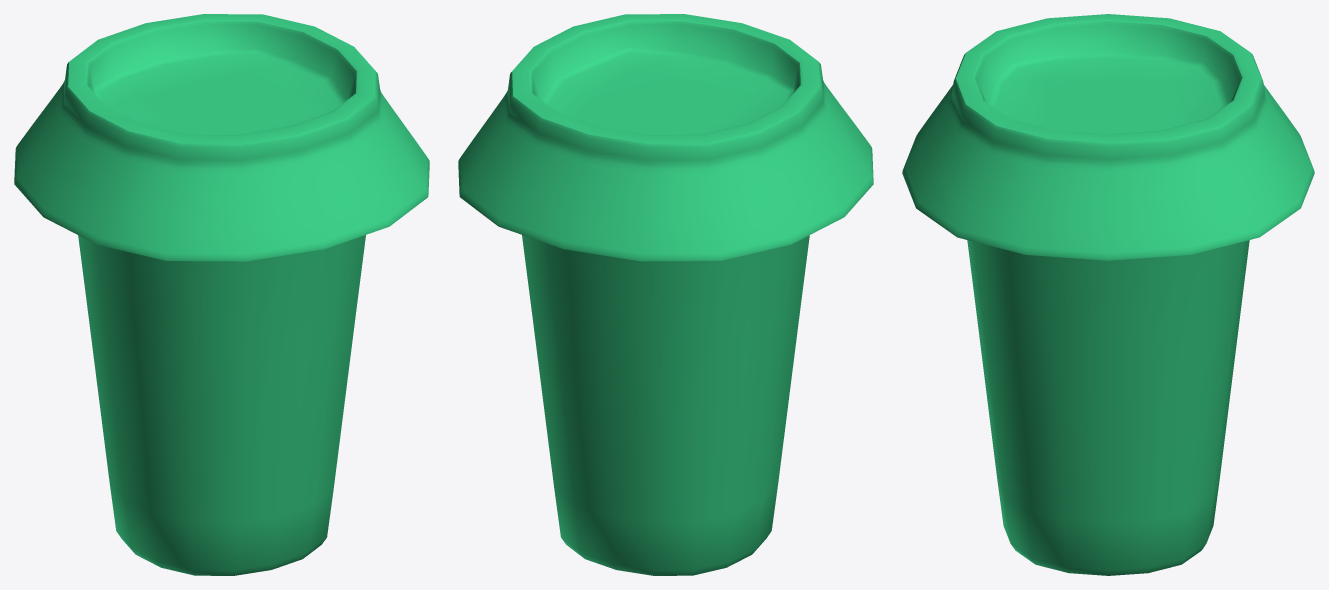
The model's file is ModelosInteractuablesBotePlastiV1_2.fbx.
3 renders of one model, left to right at view 1: azimuth 30°, elevation 25°; view 2: azimuth 150°, elevation 25°; view 3: azimuth 270°, elevation 25°, orthographic.
Parts seen in each view (by area): view 1: BoteV1; view 2: BoteV1; view 3: BoteV1.
Boxes of the visible parts, bbox=[...] form: BoteV1: bbox=[14, 14, 429, 575]; BoteV1: bbox=[458, 14, 873, 575]; BoteV1: bbox=[902, 14, 1314, 575].
Bounding box in the file's own units: 1.77 × 2.17 × 1.77.
